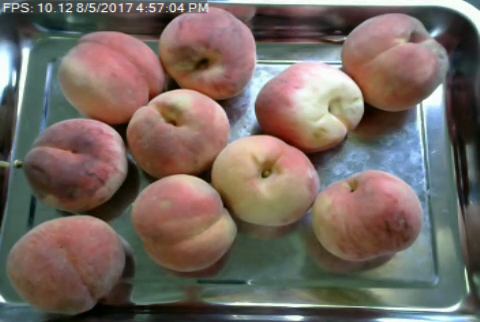Peach: (8, 214, 125, 314), (340, 12, 448, 113), (132, 174, 235, 274), (310, 171, 424, 261), (61, 28, 163, 127), (253, 61, 361, 152), (24, 117, 128, 211), (211, 135, 316, 228), (126, 87, 230, 178), (159, 6, 256, 100)
